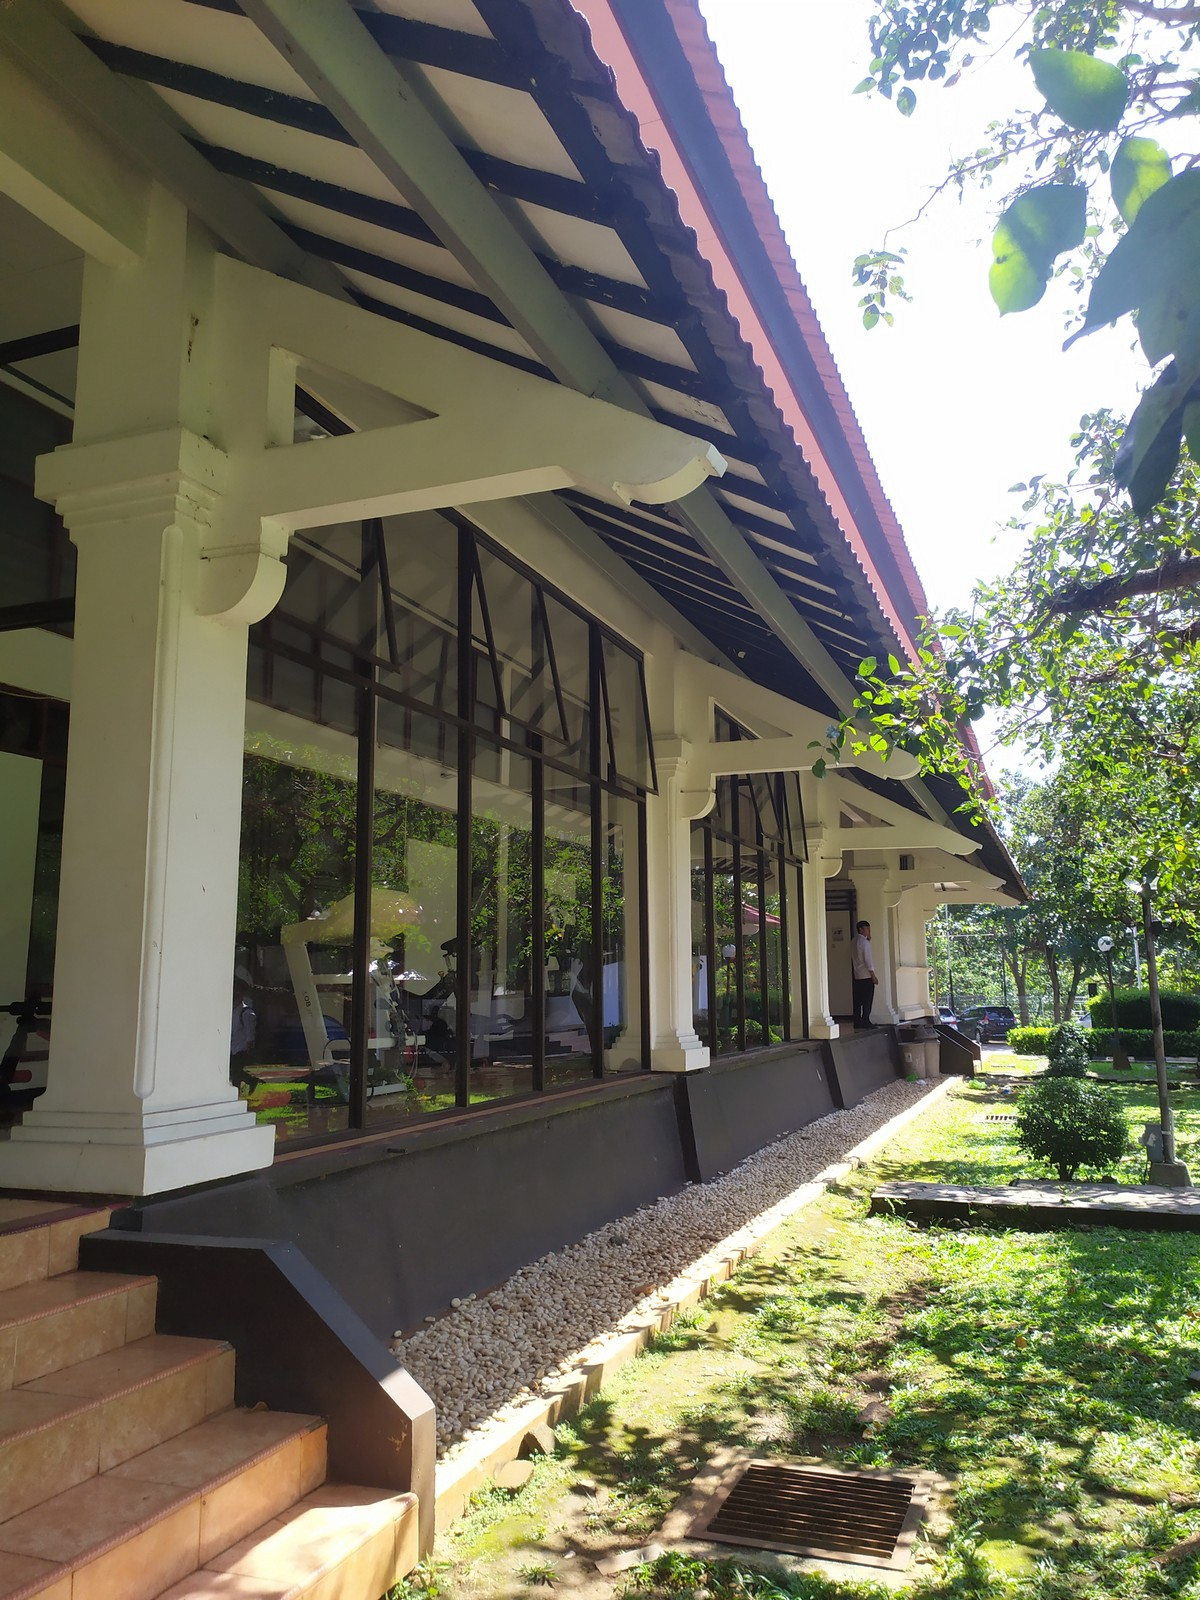concrete beam: (253, 414, 563, 539), (684, 734, 829, 782), (811, 819, 921, 858)
concrete column: (42, 540, 248, 1107), (618, 796, 708, 1039), (779, 872, 836, 1019)
